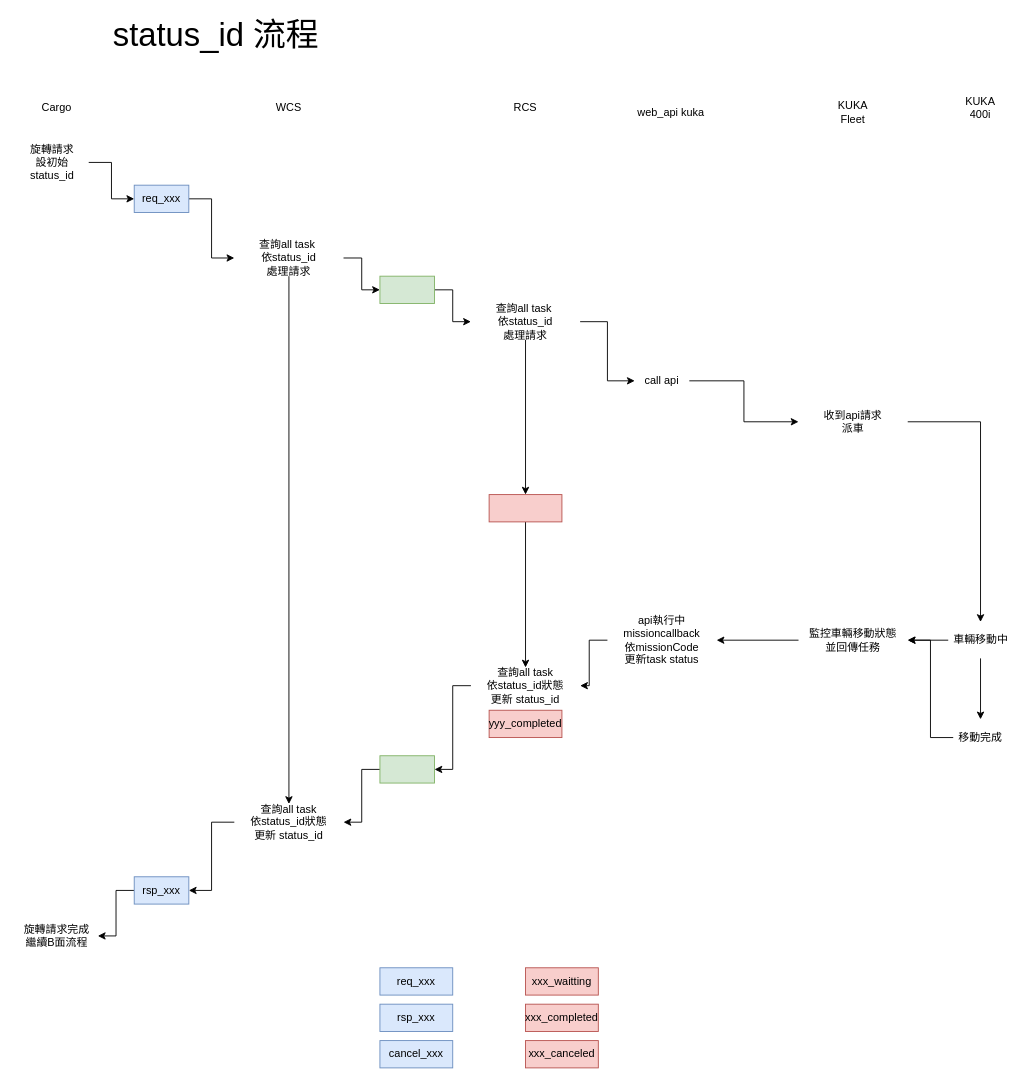
Image size: 1028x1084. Some labels were removed from this diagram. Each missing label, with the box of its shape:
req_yyy: (379, 275, 435, 303)
rsp_yyy: (379, 755, 435, 783)
yyy_waitting: (488, 494, 562, 522)
